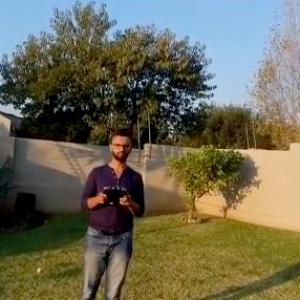follow: (75, 116, 149, 299)
